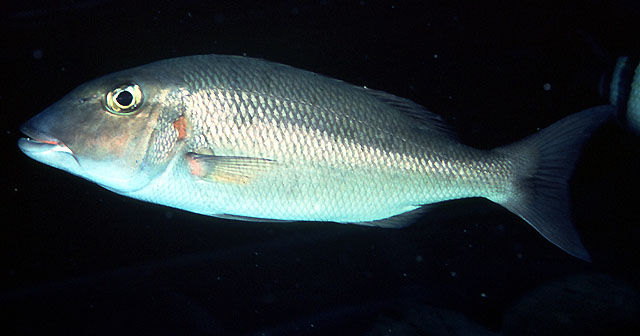fish: (19, 55, 613, 261)
